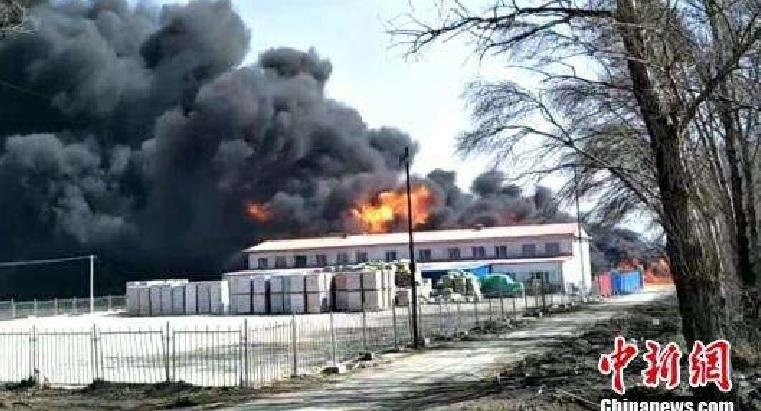fire: (355, 182, 432, 230), (612, 257, 672, 286), (245, 198, 273, 221)
